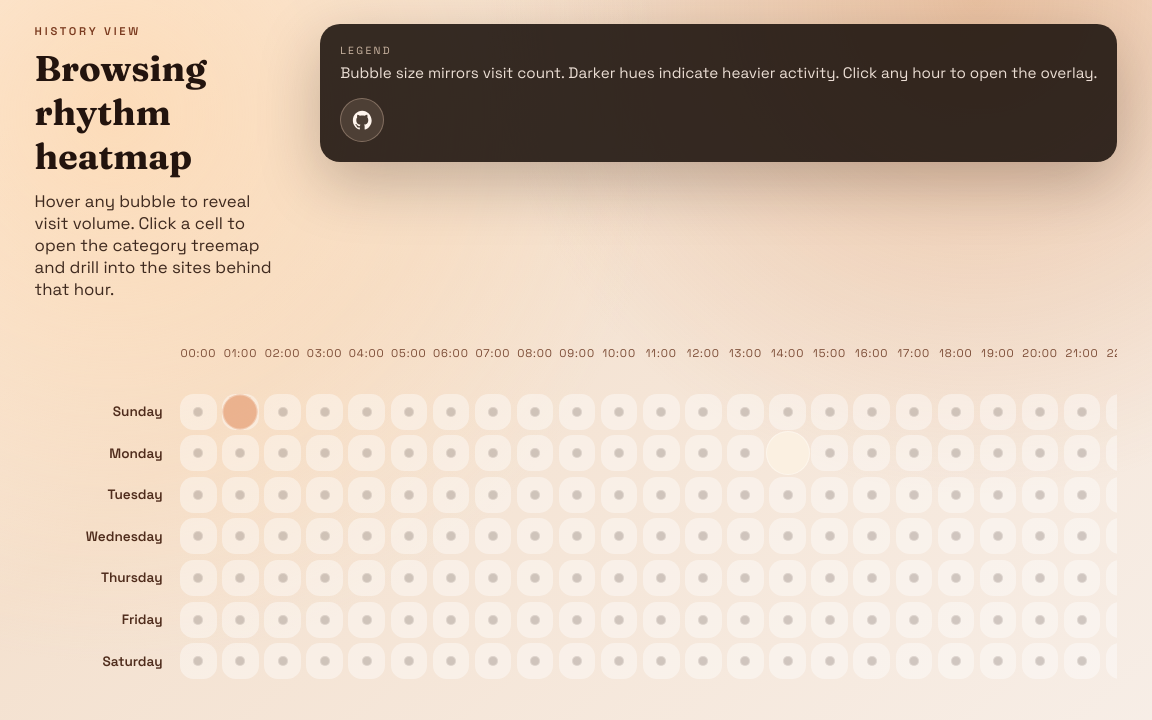
it: App › renders level0 bubbles and opens overlay on click
Click the button named "sunday at 01:00 with 2 visits" at point(240, 412), box [222,394,259,430]
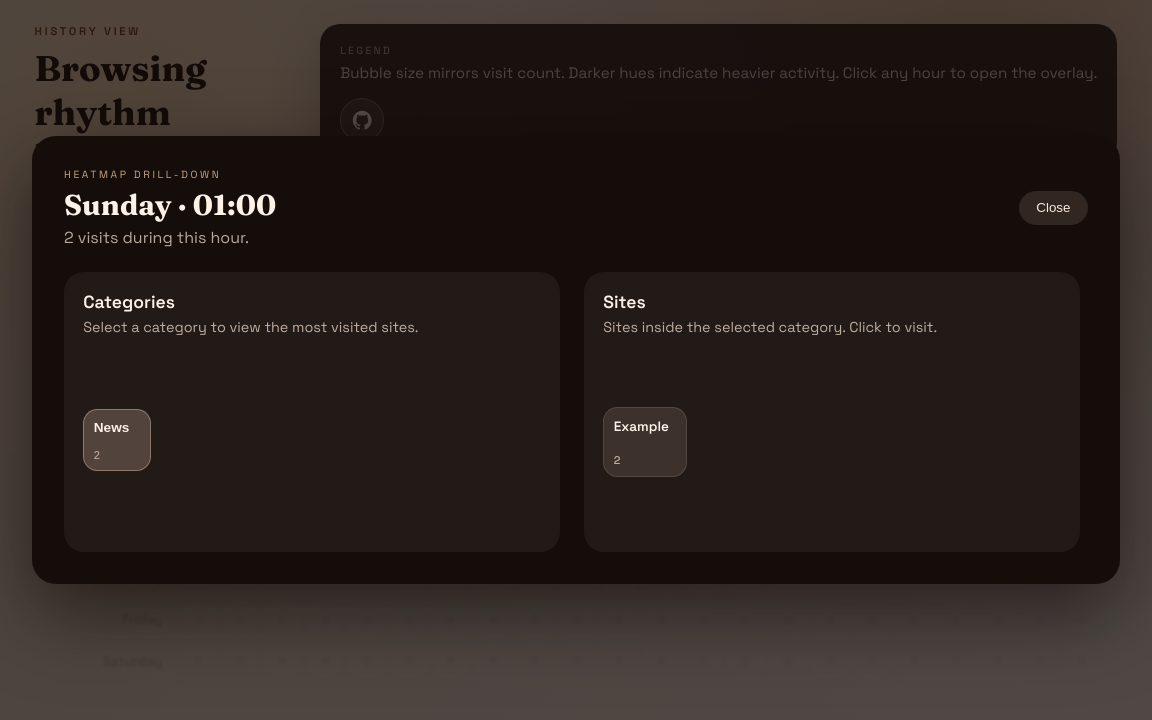
Now the heading "Sunday · 01:00" is shown, box [64,187,276,222]
Now the text "2 visits during this hour." is shown, box [64,227,276,248]
Now the button "News 2" is shown, box [83,410,152,472]
